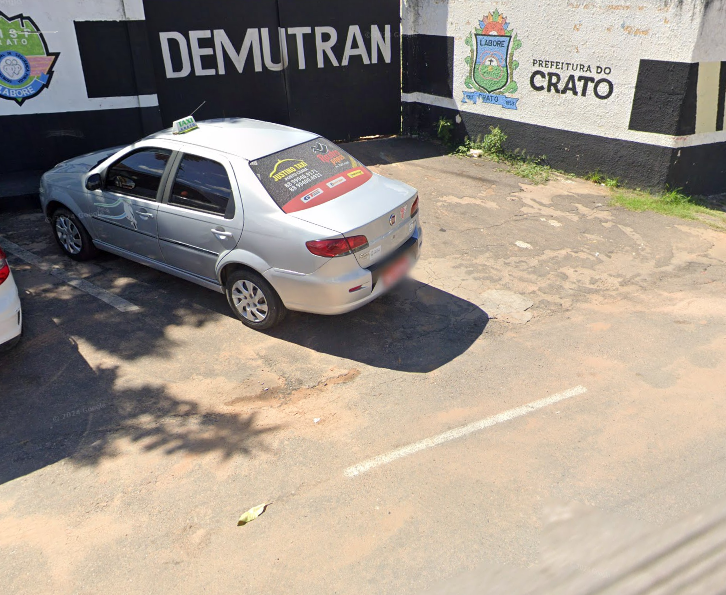car: (34, 103, 452, 338)
